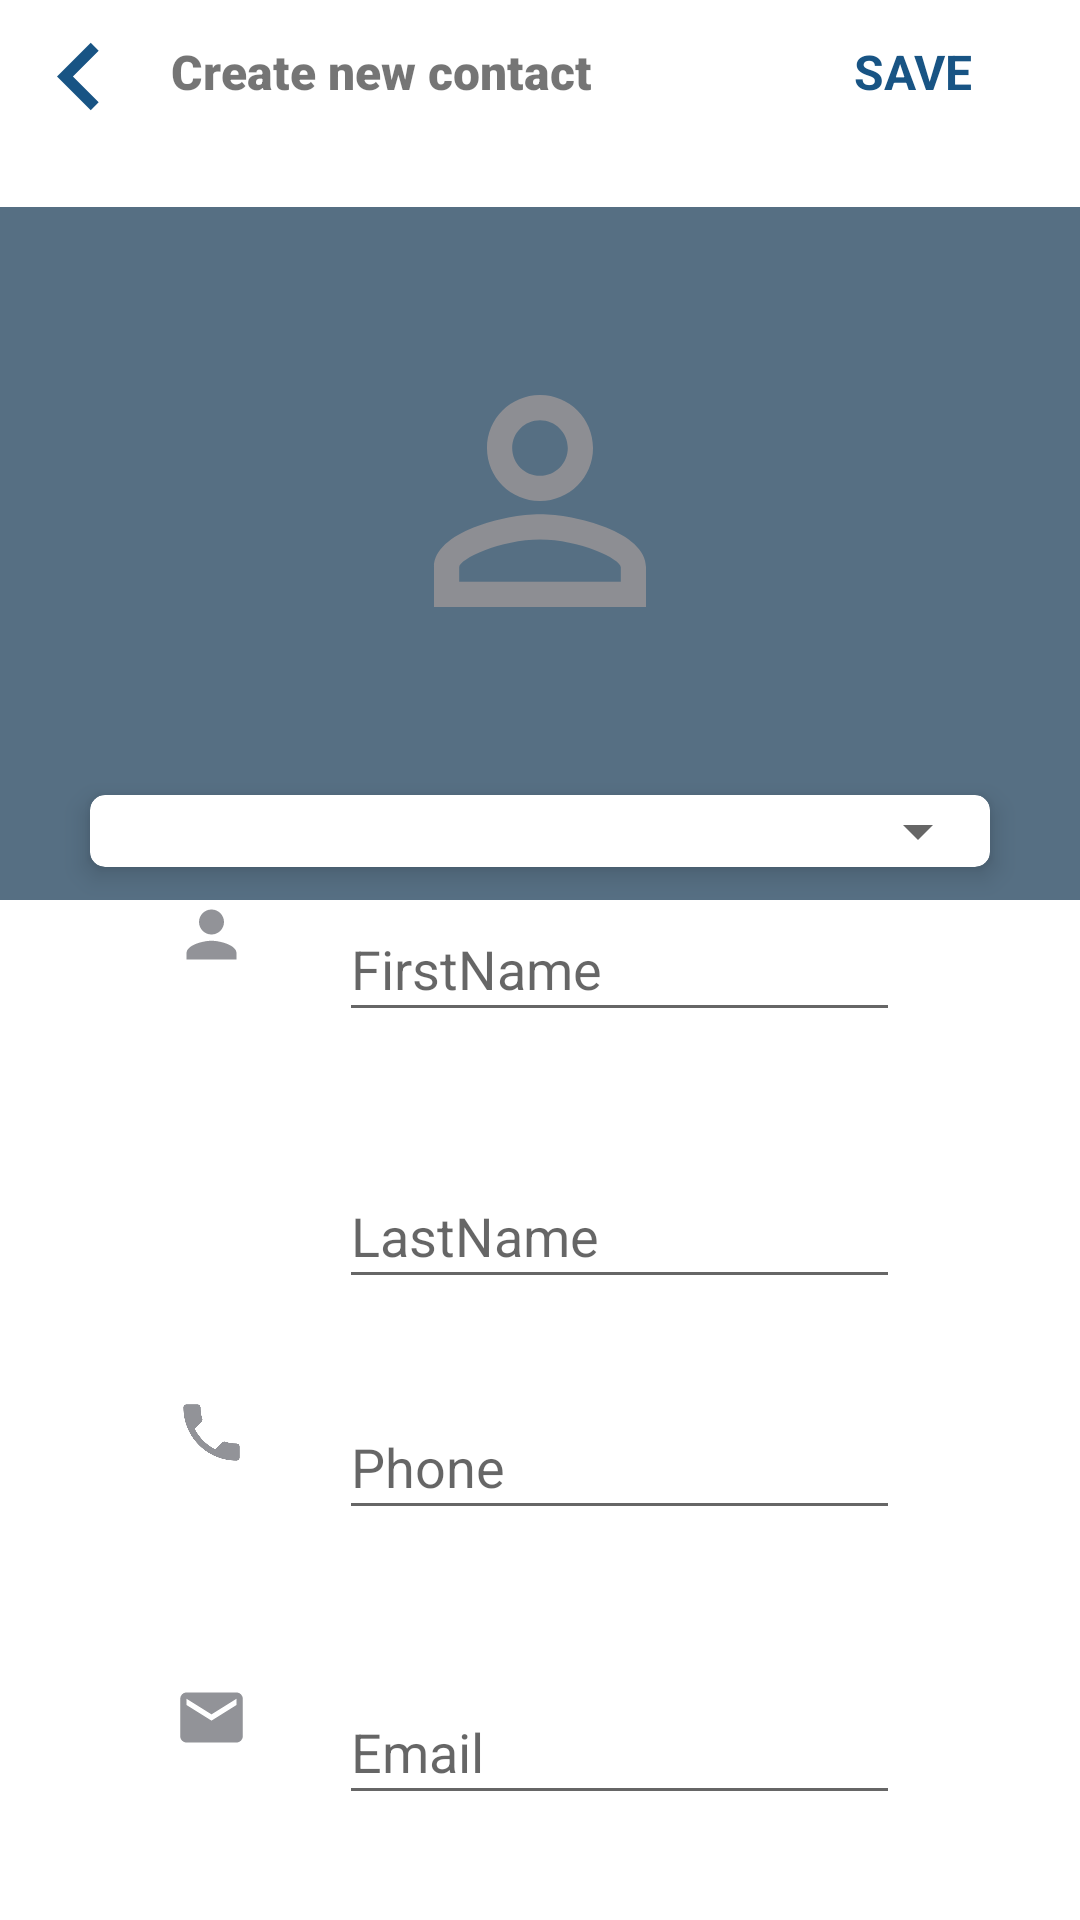

Named icons in this screenshot (1080px×1920px) and their centers, [x,y]:
backbuttonicon: [78,76]
person: [211,934]
